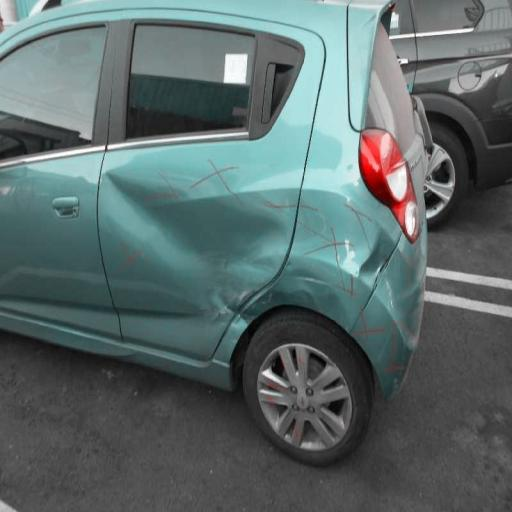dent: (98, 134, 420, 379)
